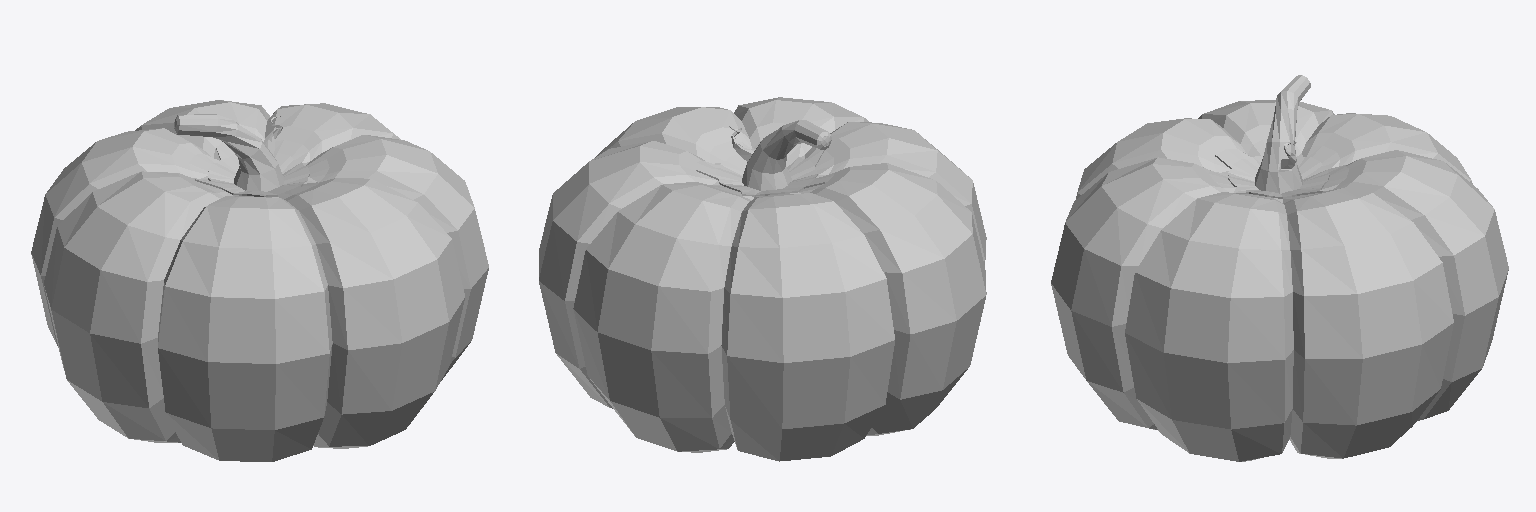
File: pumpkin.obj
The picture shows the model from 3 angles: view 1: azimuth 30°, elevation 25°; view 2: azimuth 150°, elevation 25°; view 3: azimuth 270°, elevation 25°; orthographic projection.
Parts seen in each view (by area): view 1: Pumpkin_Cylinder.001; view 2: Pumpkin_Cylinder.001; view 3: Pumpkin_Cylinder.001.
Boxes of the visible parts, box(x1,y1,x2,y2) form: Pumpkin_Cylinder.001: box(31, 100, 488, 461); Pumpkin_Cylinder.001: box(539, 97, 986, 461); Pumpkin_Cylinder.001: box(1051, 75, 1508, 461).
Size of the model in its own units: 0.6116 by 0.441 by 0.6167.